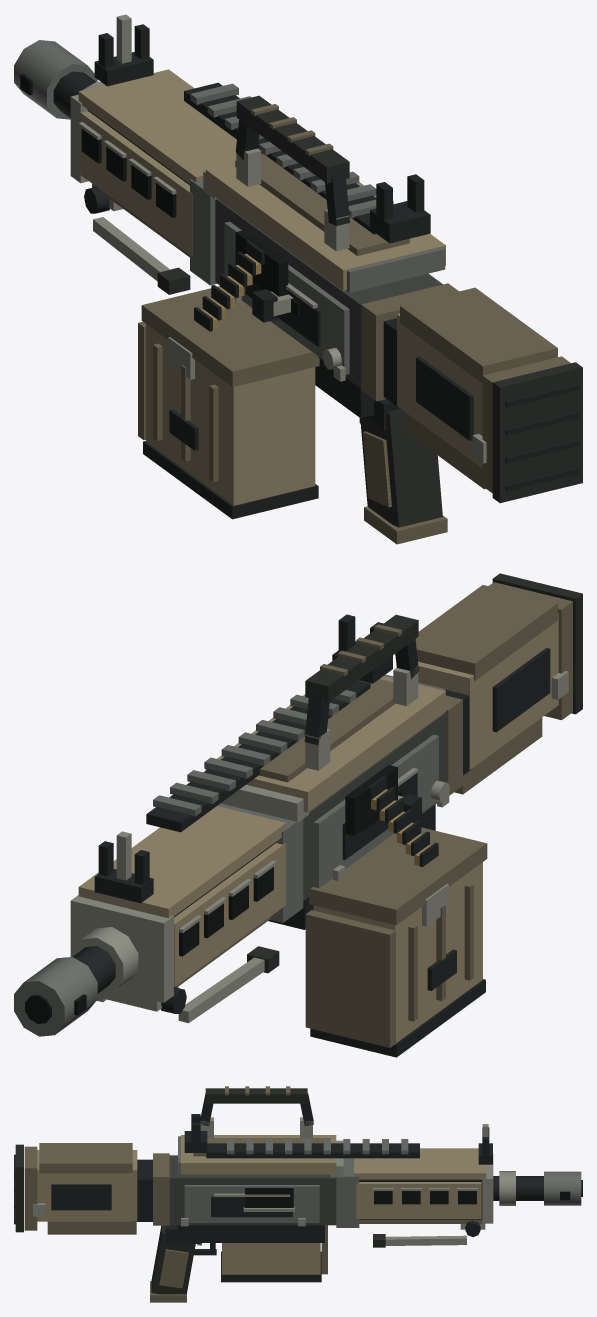
The model's file is lmg.glb.
The picture shows the model from 3 angles, top to bottom: view 1: azimuth 30°, elevation 25°; view 2: azimuth 150°, elevation 25°; view 3: azimuth 270°, elevation 25°; orthographic projection. The views are drawn at different scales.
Parts seen in each view (by area): view 1: Merged_material (×7), Heavy receiver shell; view 2: Merged_material (×8), Heavy receiver shell; view 3: Merged_material (×7), Heavy receiver shell.
Boxes of the visible parts, <box> form: Merged_material (×7): <box>14,14,582,544</box>; Heavy receiver shell: <box>215,199,442,388</box>; Merged_material (×8): <box>14,573,582,1057</box>; Heavy receiver shell: <box>303,712,446,900</box>; Merged_material (×7): <box>14,1086,582,1302</box>; Heavy receiver shell: <box>169,1155,336,1225</box>.
Size of the model in its own units: 0.238 by 0.4255 by 1.12.
